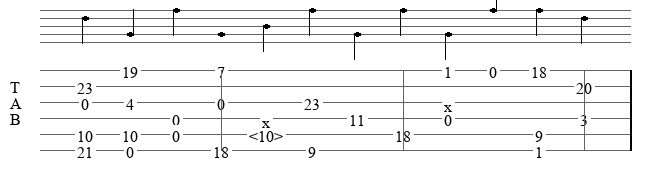0: (81, 95, 93, 110), (126, 143, 138, 158), (172, 111, 184, 126), (172, 127, 184, 142), (217, 95, 229, 110), (444, 111, 456, 126), (489, 63, 501, 78)
1: (444, 63, 456, 78), (535, 143, 547, 158)
10: (77, 127, 97, 142), (122, 127, 142, 142)
11: (349, 111, 369, 126)
18: (213, 143, 233, 158), (395, 127, 415, 142), (531, 63, 551, 78)
19: (122, 63, 142, 78)
20: (576, 79, 596, 94)
21: (77, 143, 97, 158)
23: (77, 79, 97, 94), (304, 95, 324, 110)
3: (580, 111, 592, 126)
4: (126, 95, 138, 110)
7: (217, 63, 229, 78)
9: (308, 143, 320, 158), (535, 127, 547, 142)
harmonic: (249, 127, 287, 142)
x: (262, 113, 274, 124), (444, 97, 456, 108)
